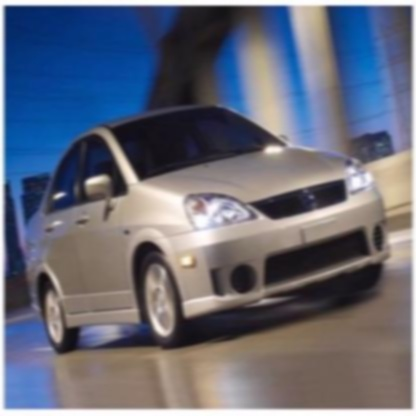Vehicle: (24, 104, 390, 355)
